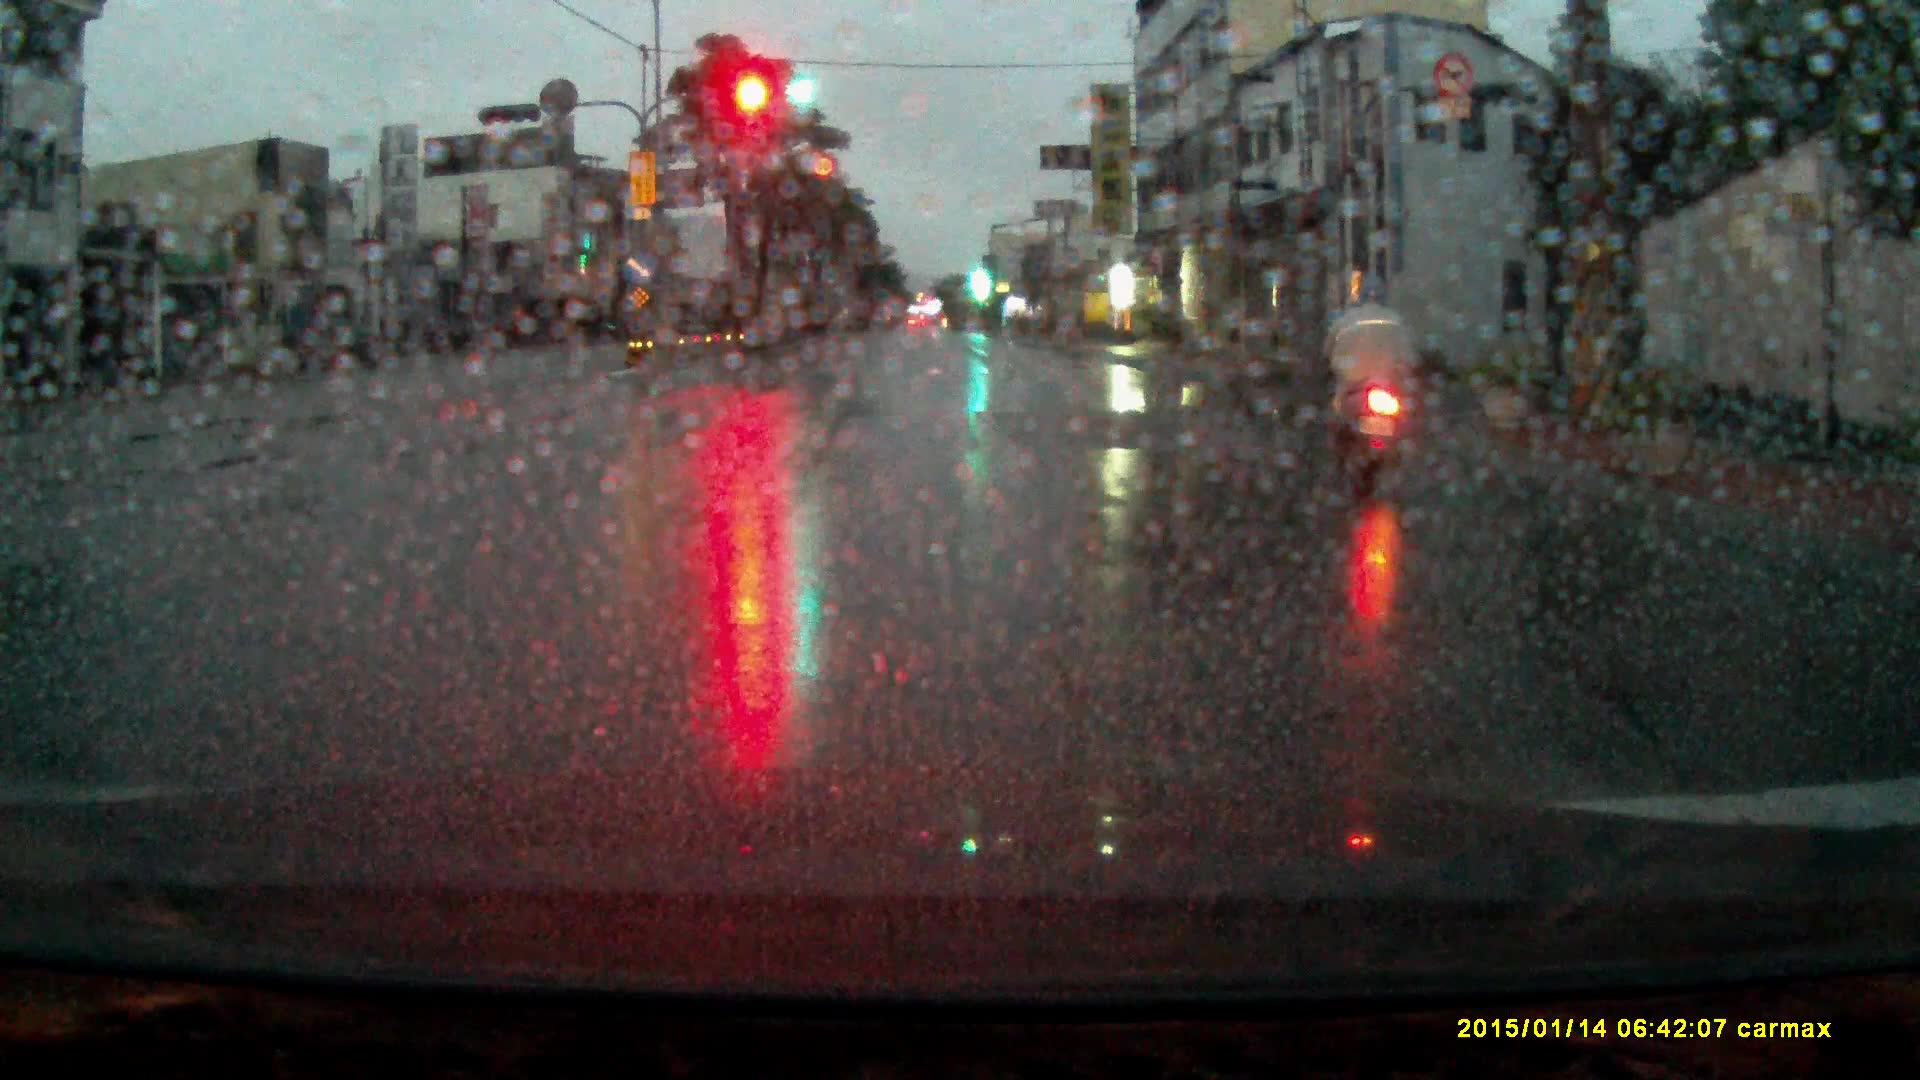rider: (1326, 267, 1417, 512)
